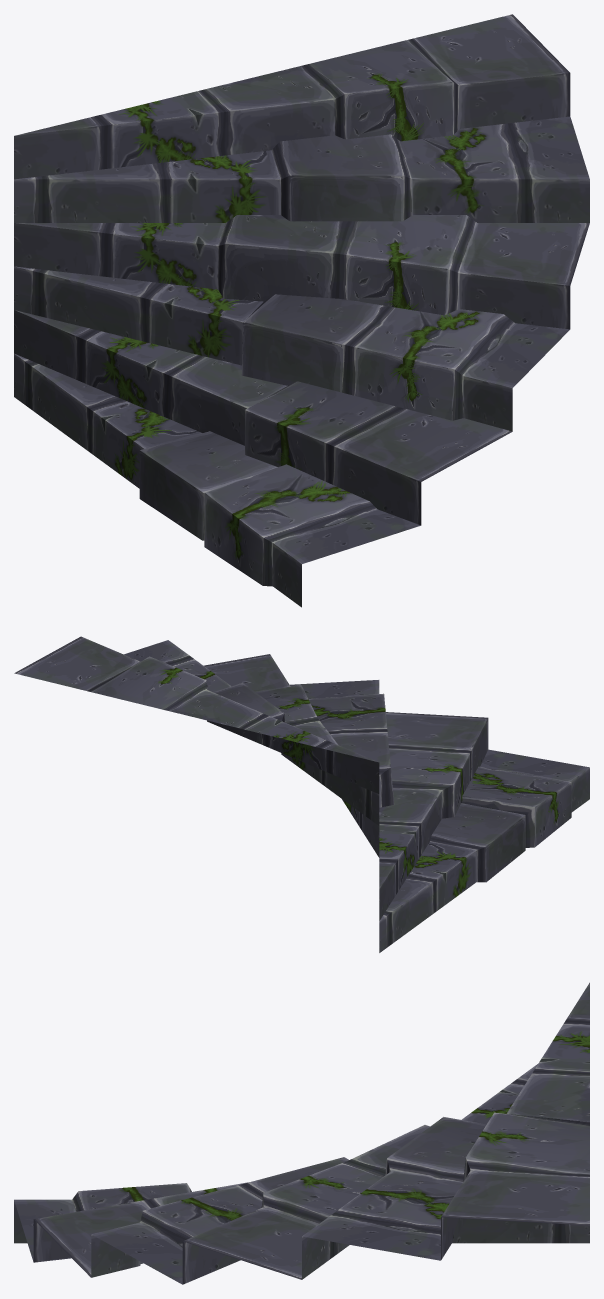
File: MOD_Stairs_01_E_med_SW.fbx
3 renders of one model, top to bottom at view 1: azimuth 30°, elevation 25°; view 2: azimuth 150°, elevation 25°; view 3: azimuth 270°, elevation 25°, orthographic. The views are drawn at different scales.
Parts seen in each view (by area): view 1: MOD_Stairs_01_E_med_SW; view 2: MOD_Stairs_01_E_med_SW; view 3: MOD_Stairs_01_E_med_SW.
Boxes of the visible parts, <box> form: MOD_Stairs_01_E_med_SW: <box>14,14,589,607</box>; MOD_Stairs_01_E_med_SW: <box>14,636,589,952</box>; MOD_Stairs_01_E_med_SW: <box>14,982,589,1284</box>.
Size of what is drawn, in the model's own units: 409 by 206 by 400.
